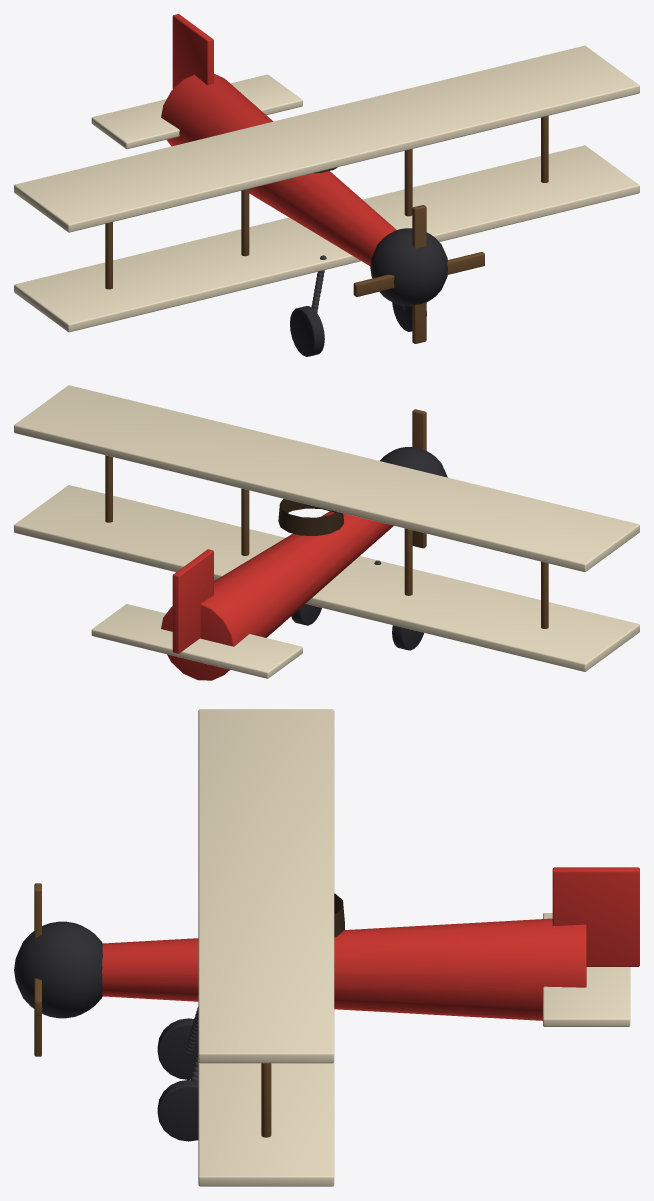
Rendered from biplano.glb.
3 renders of one model, top to bottom at view 1: azimuth 30°, elevation 25°; view 2: azimuth 150°, elevation 25°; view 3: azimuth 270°, elevation 25°, orthographic. The views are drawn at different scales.
Visible parts, largest first — view 1: biplano; view 2: biplano; view 3: biplano.
Boxes of the visible parts, bbox=[...] form: biplano: bbox=[14, 14, 639, 356]; biplano: bbox=[14, 385, 639, 680]; biplano: bbox=[14, 709, 639, 1186].
Size of the model in its own units: 6.05 by 1.96 by 4.64.
